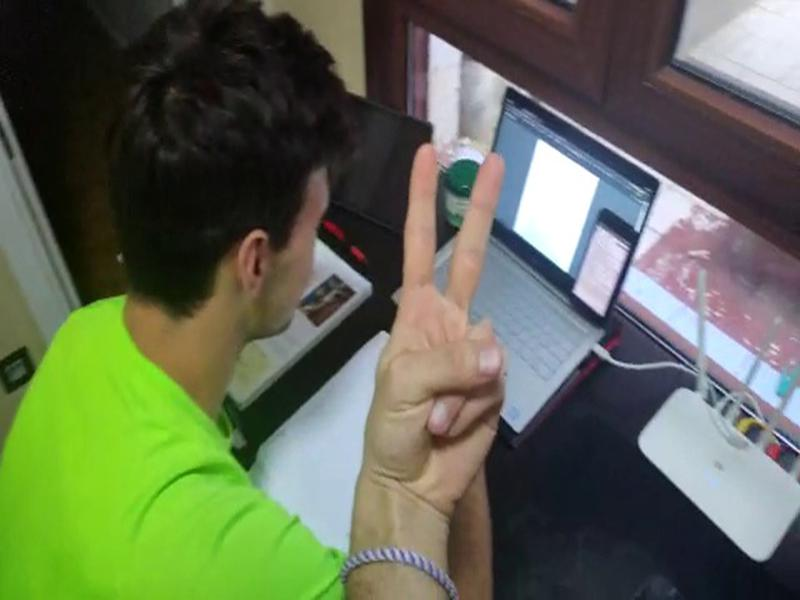Peace: (349, 115, 526, 463)
